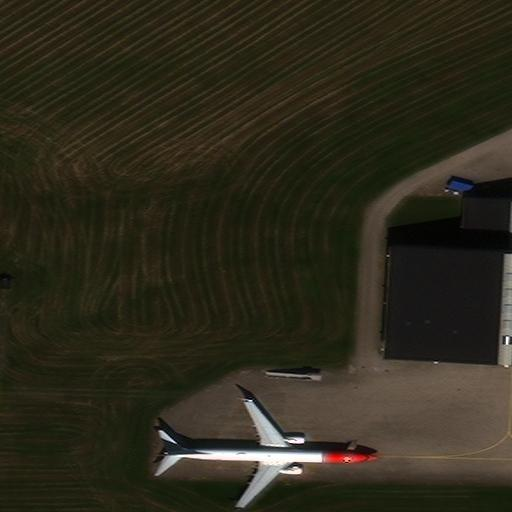Medium Civil Transport: (158, 396, 377, 509)
